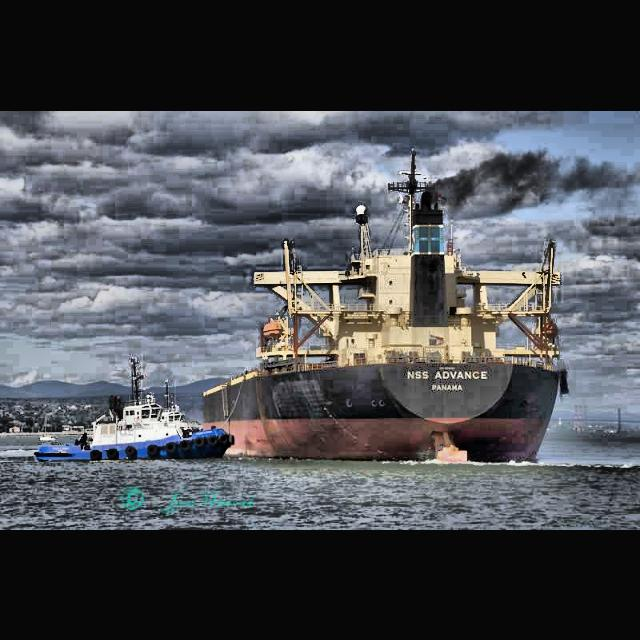bulk_carrier: (199, 143, 573, 465)
tug: (33, 354, 237, 461)
